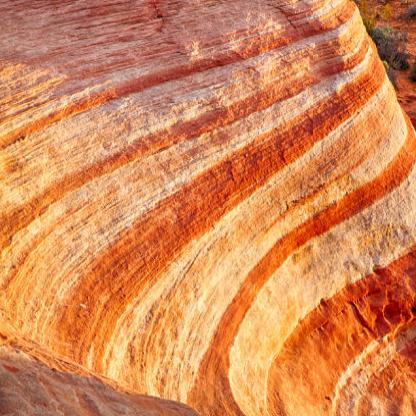Sedimentary_Sandstone: (5, 3, 415, 415)
